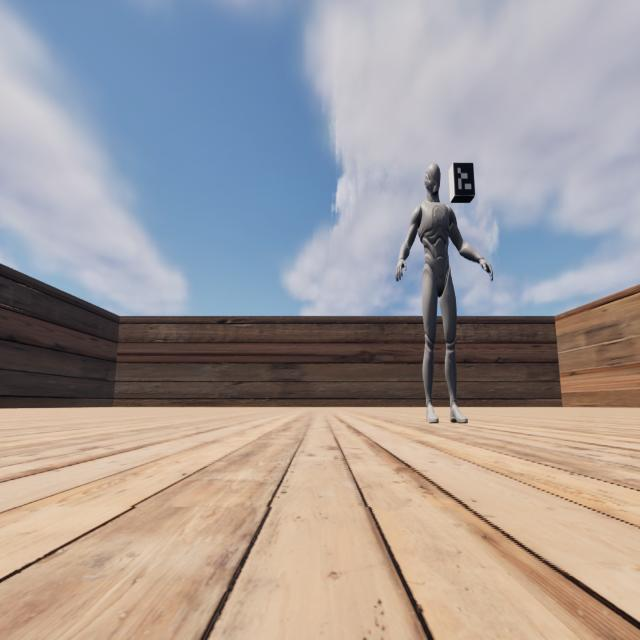aruco: (454, 162, 475, 195)
hip: (422, 267, 452, 279)
